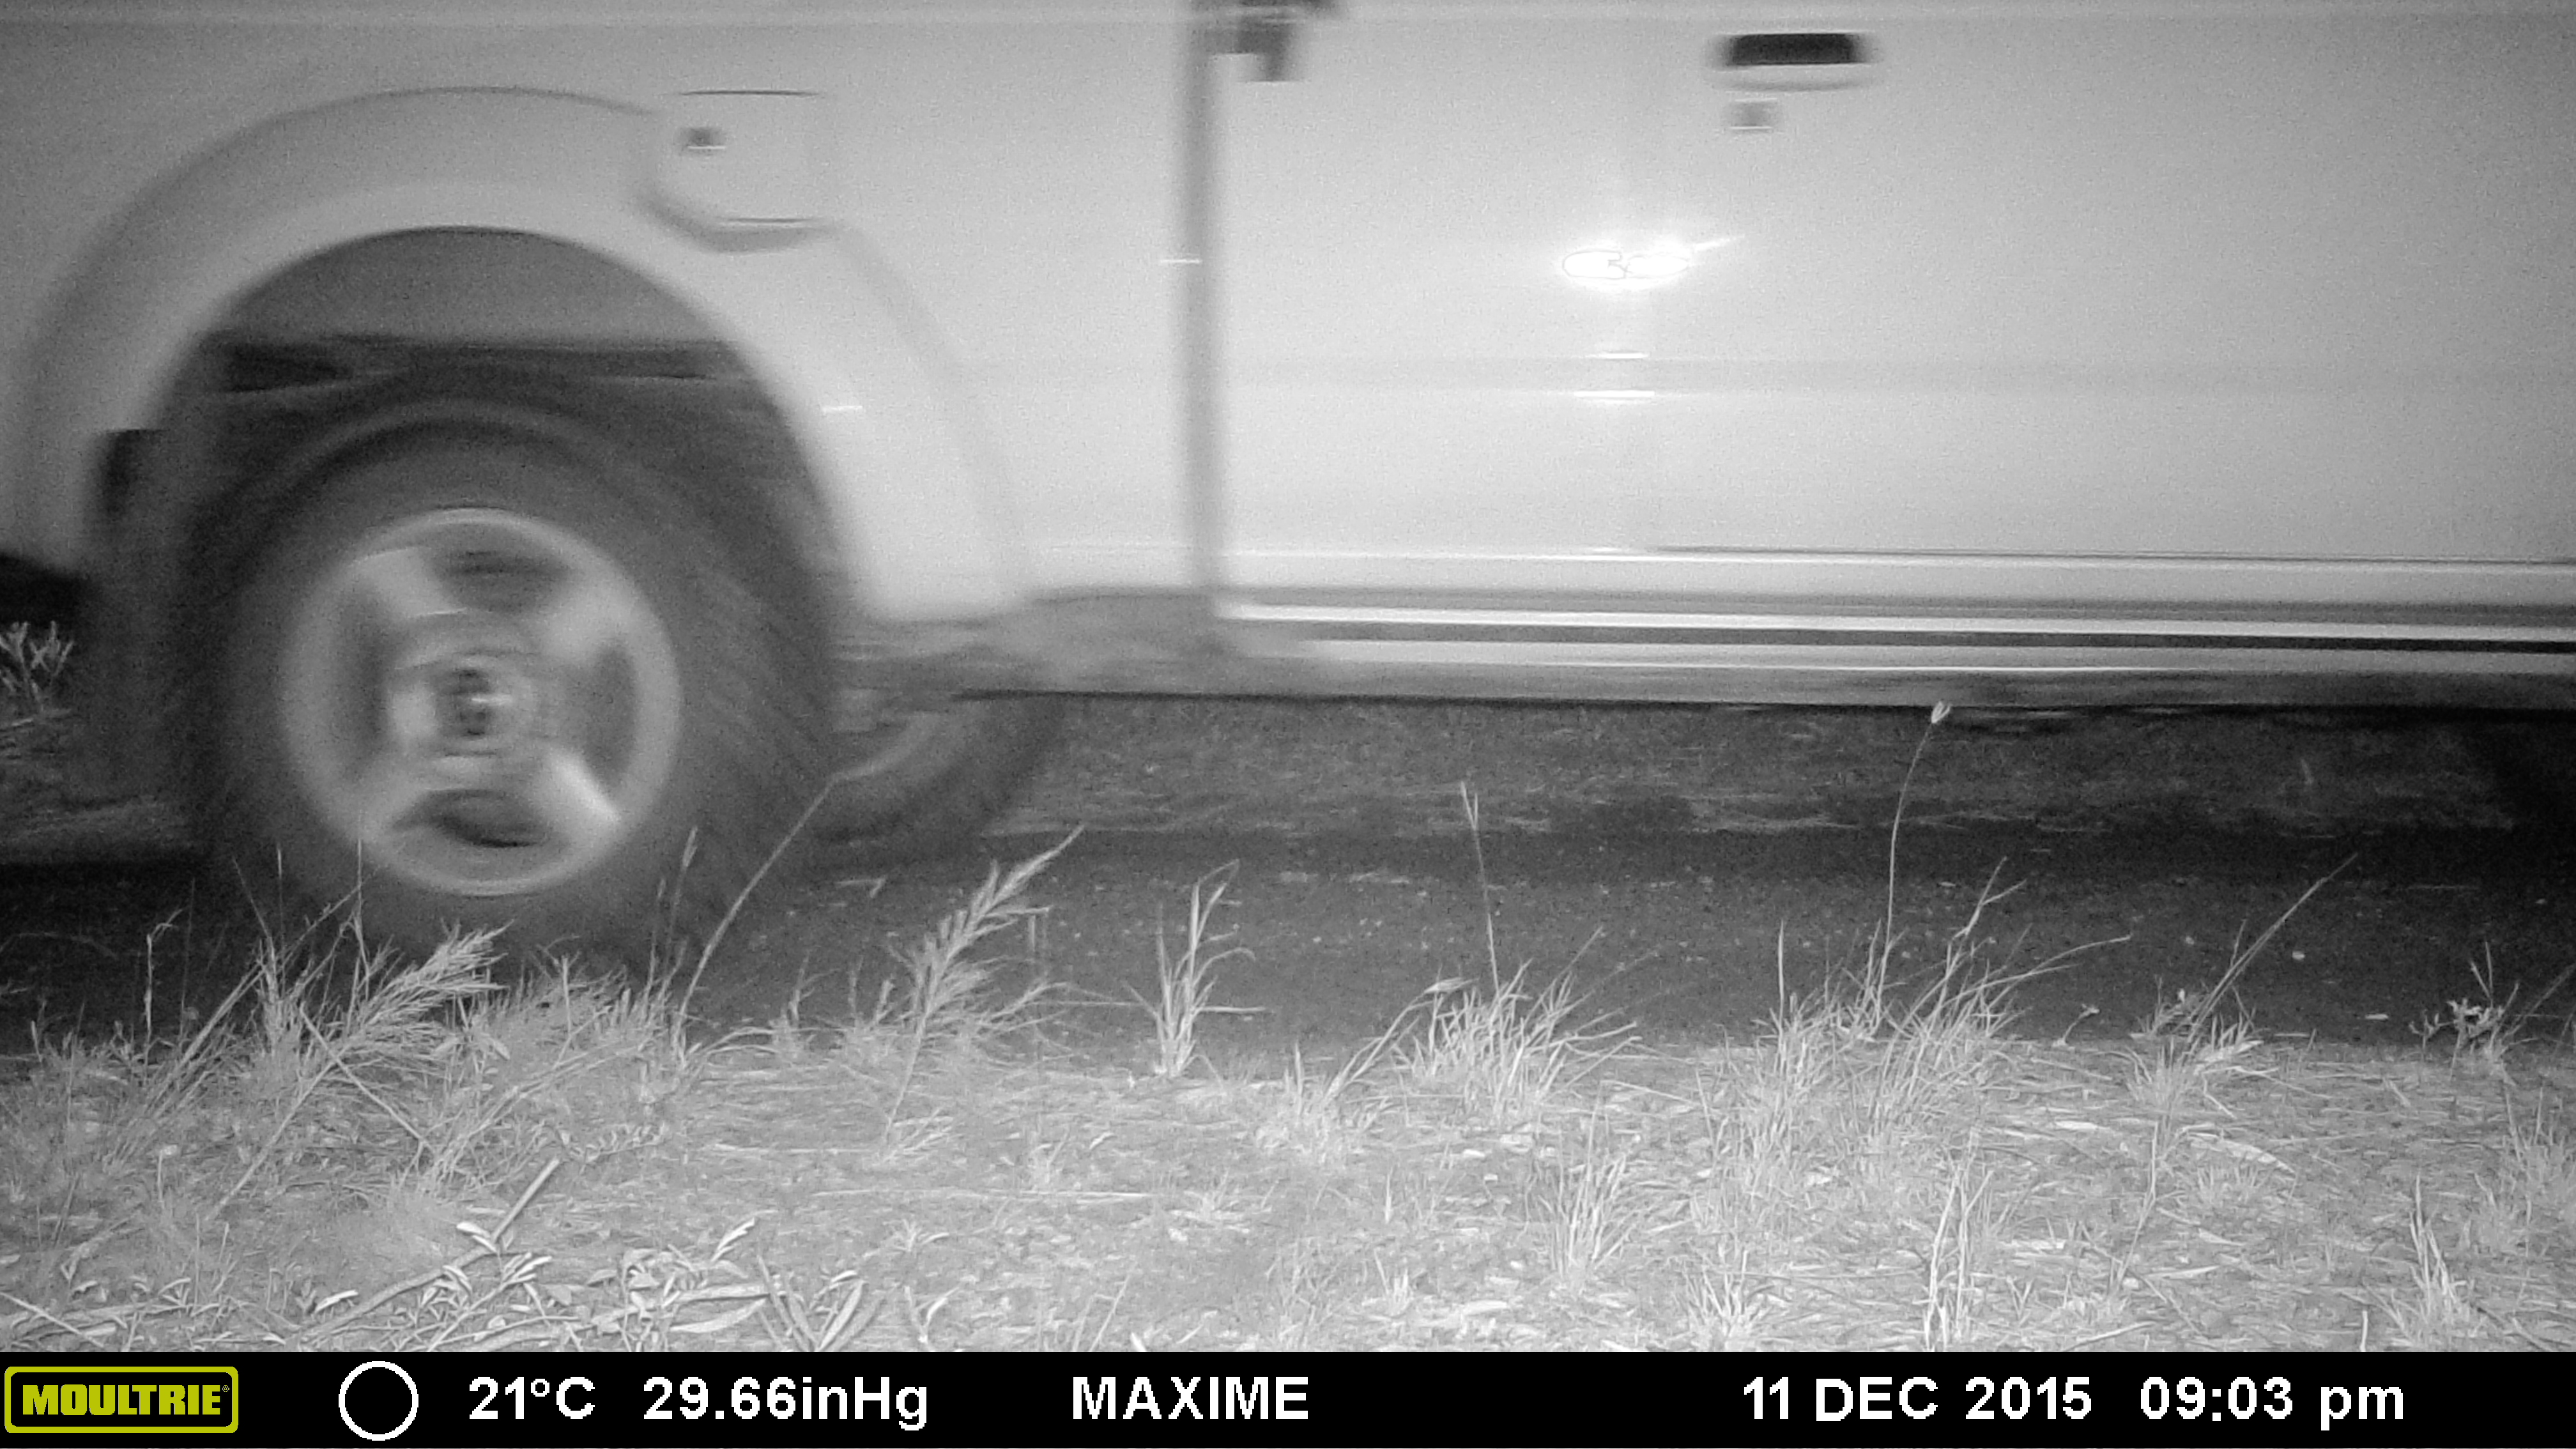Car: (2, 2, 2572, 1021)
